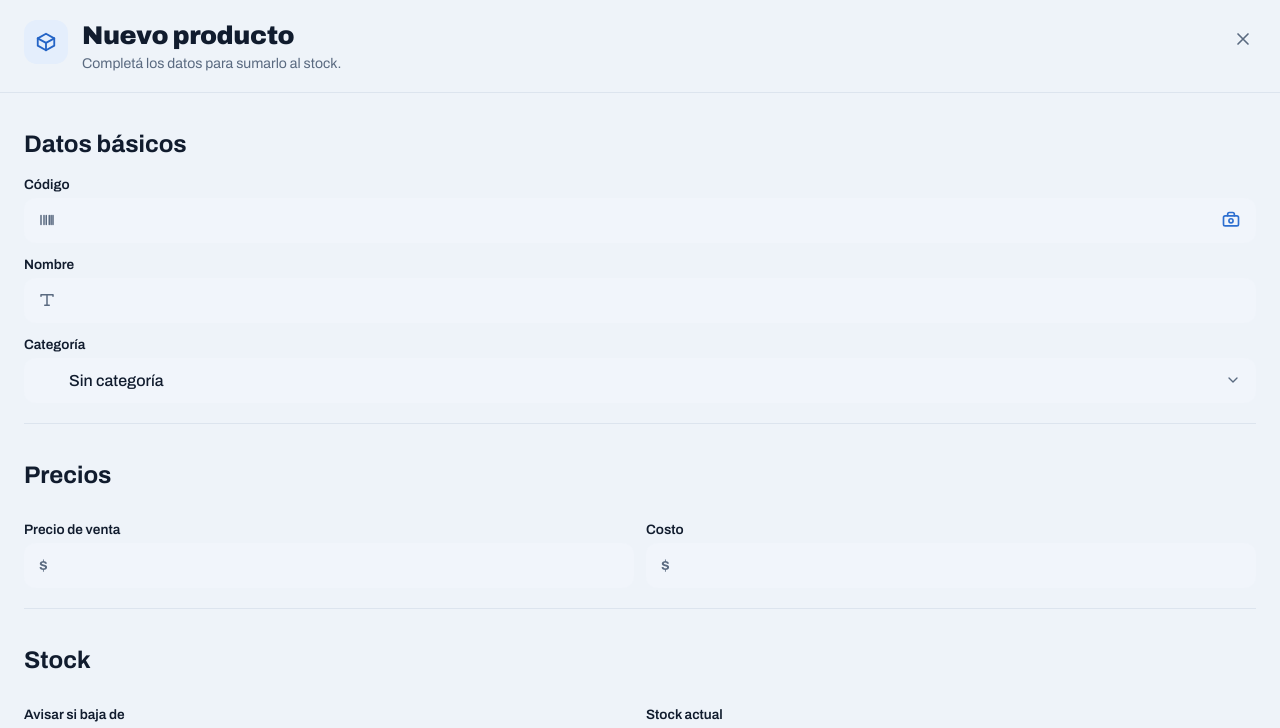
Scenario: ProductForm › mientras se cargan precio y costo muestra cuanto se gana por unidad
Type "12" into the number field labelled "Precio de venta" at (329, 565), box [24,543,634,588]
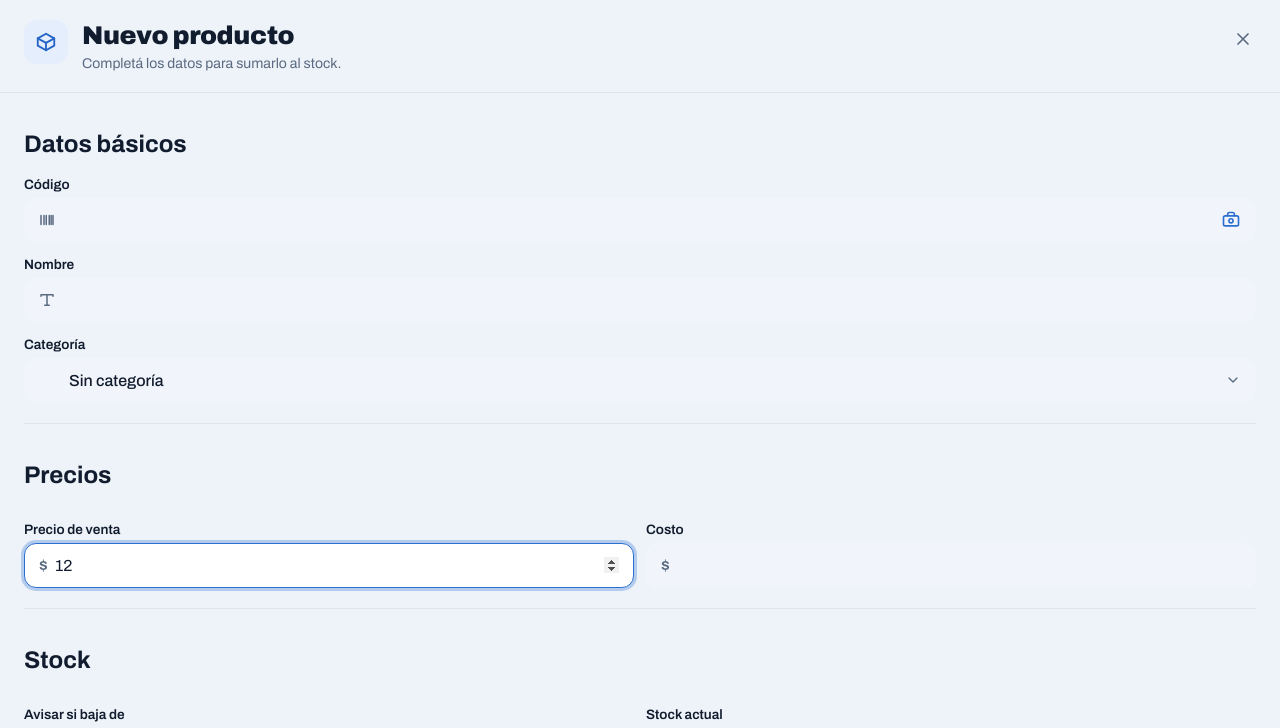
Type "8" into the number field labelled "Costo" at (951, 565), box [646,543,1256,588]
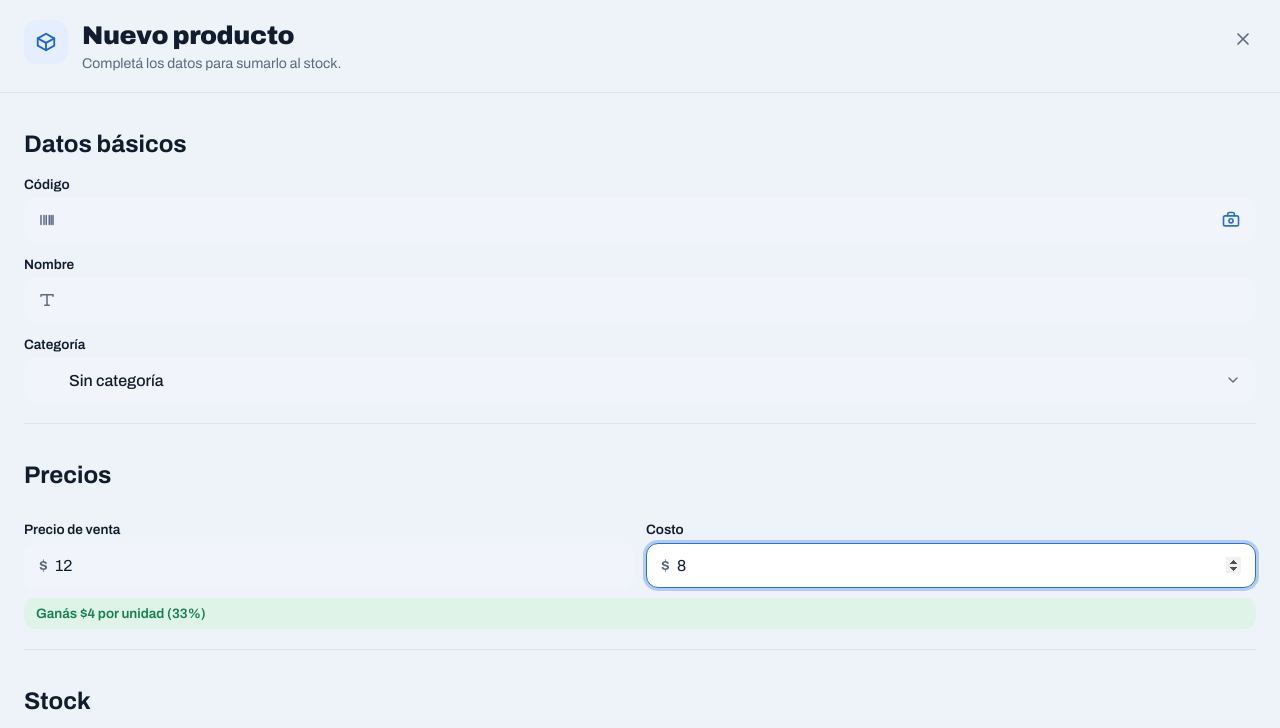
Check: the text "Ganás $4 por unidad (33%)" is shown, box [24,598,1256,629]
